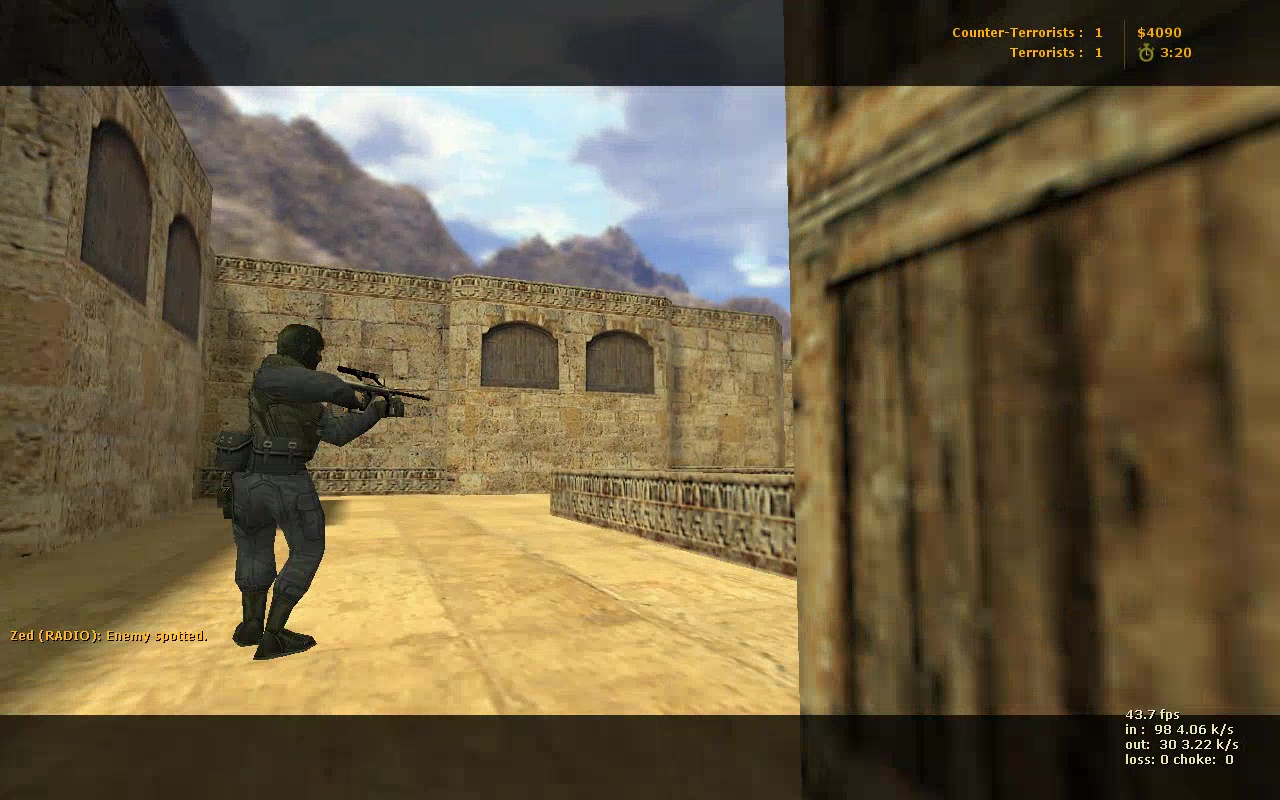ct: (215, 325, 405, 664)
